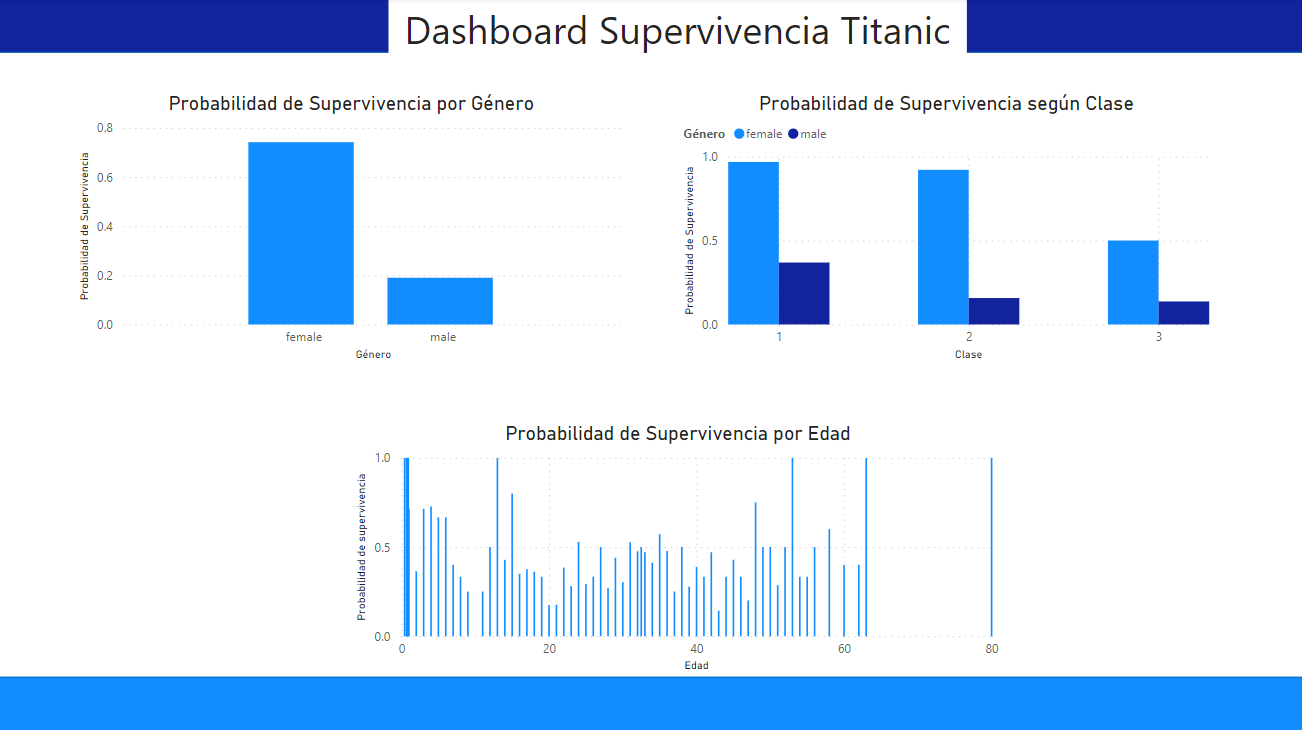

This screenshot's page, from the dashboard's own definition file:
{"tool":"powerbi","page":{"name":"PRÁCTICA2","canvas":[1280,720],"ordinal":1},"visuals":[{"type":"clusteredColumnChart","title":"Probabilidad de Supervivencia por Género","fields":{"Category":["titanic.Sex"],"Y":["Avg(titanic.Survived)"]},"box":[75.5,91.9,543.4,267.6],"z":0},{"type":"clusteredColumnChart","title":"Probabilidad de Supervivencia según Clase","fields":{"Category":["titanic.Pclass"],"Y":["Avg(titanic.Survived)"],"Series":["titanic.Sex"]},"box":[666.9,91.9,524.2,267.6],"z":1000},{"type":"clusteredColumnChart","title":"Probabilidad de Supervivencia por Edad","fields":{"Category":["titanic.Age"],"Y":["Avg(titanic.Survived)"]},"box":[347.2,414.4,639.5,249.7],"z":2000},{"type":"shape","box":[0,664.2,1280.3,56.3],"z":3000},{"type":"shape","box":[0,0,1280.3,53.5],"z":4000},{"type":"textbox","box":[384.2,0,565.4,63.1],"z":5000}]}

Visuals, with their boxes in screenshot pixels (x1, y1, x2, y2), scaled from the page's 1280x720 canvas onto the 1302x730 screenshot:
"Probabilidad de Supervivencia por Género" clusteredColumnChart: bbox=[77, 93, 630, 364]
"Probabilidad de Supervivencia según Clase" clusteredColumnChart: bbox=[678, 93, 1212, 364]
"Probabilidad de Supervivencia por Edad" clusteredColumnChart: bbox=[353, 420, 1004, 673]
shape: bbox=[0, 673, 1301, 729]
shape: bbox=[0, 0, 1301, 54]
textbox: bbox=[391, 0, 966, 64]
